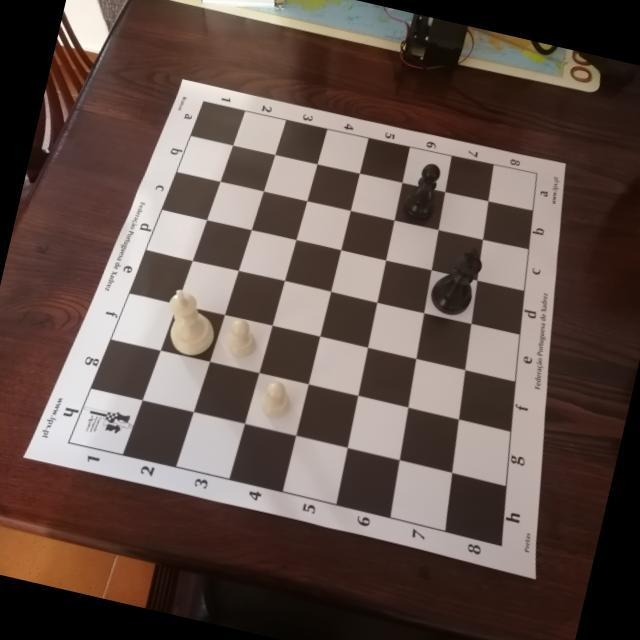black-bishop: (400, 157, 448, 223)
black-king: (426, 239, 486, 321)
white-king: (157, 286, 223, 362)
white-pawn: (255, 377, 296, 423), (222, 315, 262, 360)
